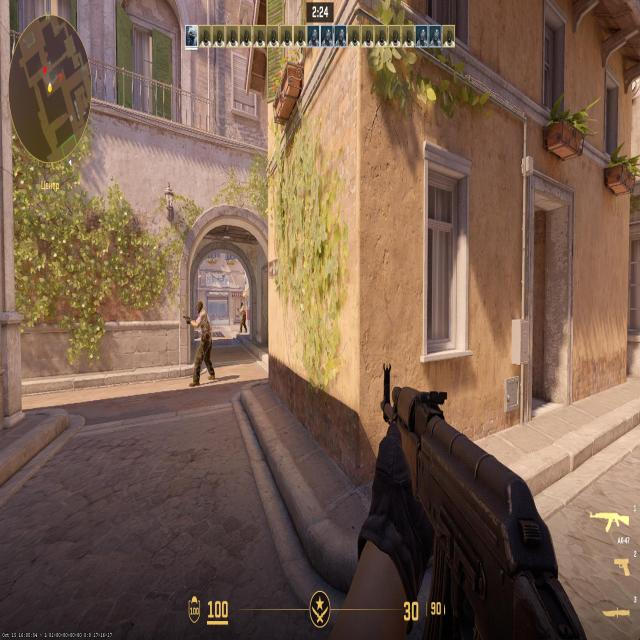T: (194, 301, 212, 382), (240, 301, 246, 330)
T_heat: (196, 304, 204, 316), (240, 303, 243, 309)
